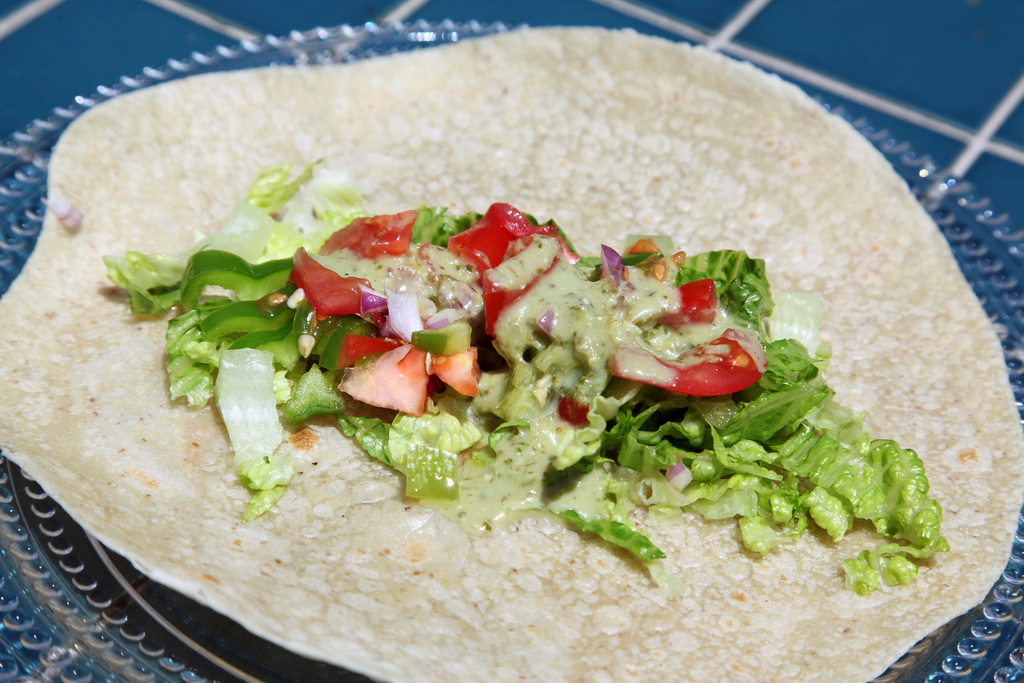chopped lettuce: (139, 212, 956, 598)
